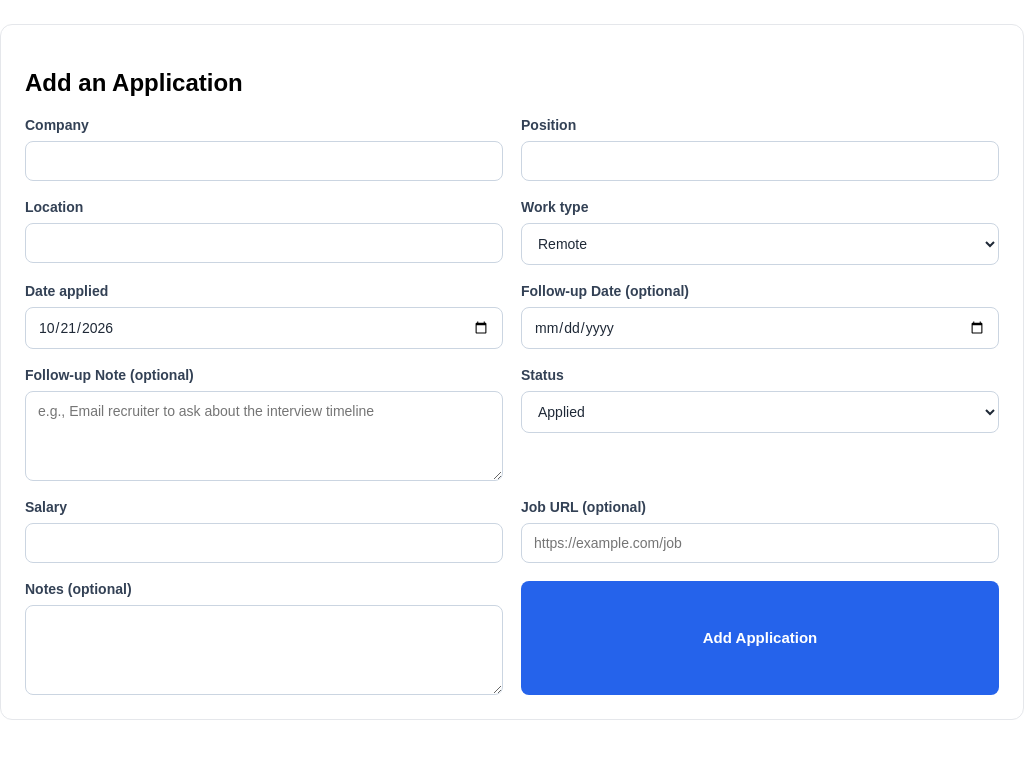
Test: ApplicationForm › shows an error when company is missing
Click the button "Add Application" at {"x": 760, "y": 638}, box 521,581 -> 999,695
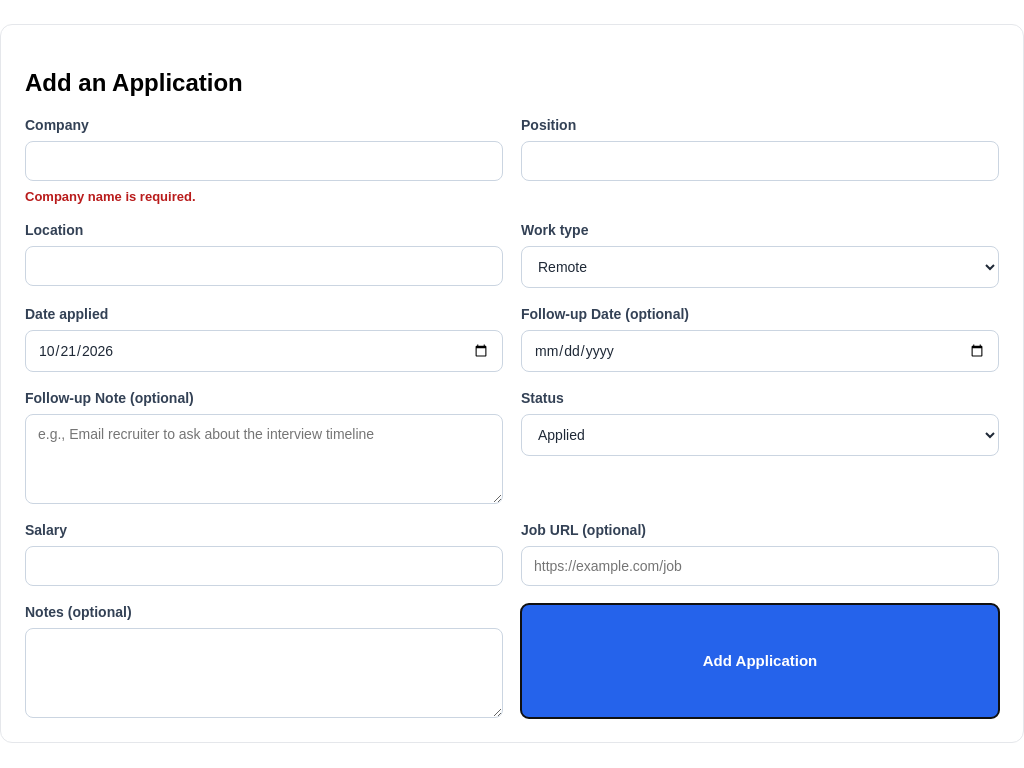
Now the text "Company name is required." is shown, box 25,189 -> 196,204
